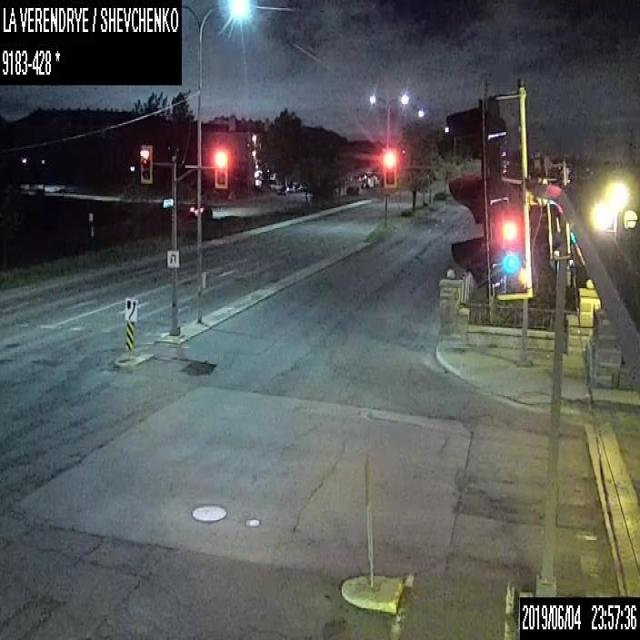vehicle: (278, 185, 288, 194), (288, 183, 295, 193), (296, 184, 302, 192)
